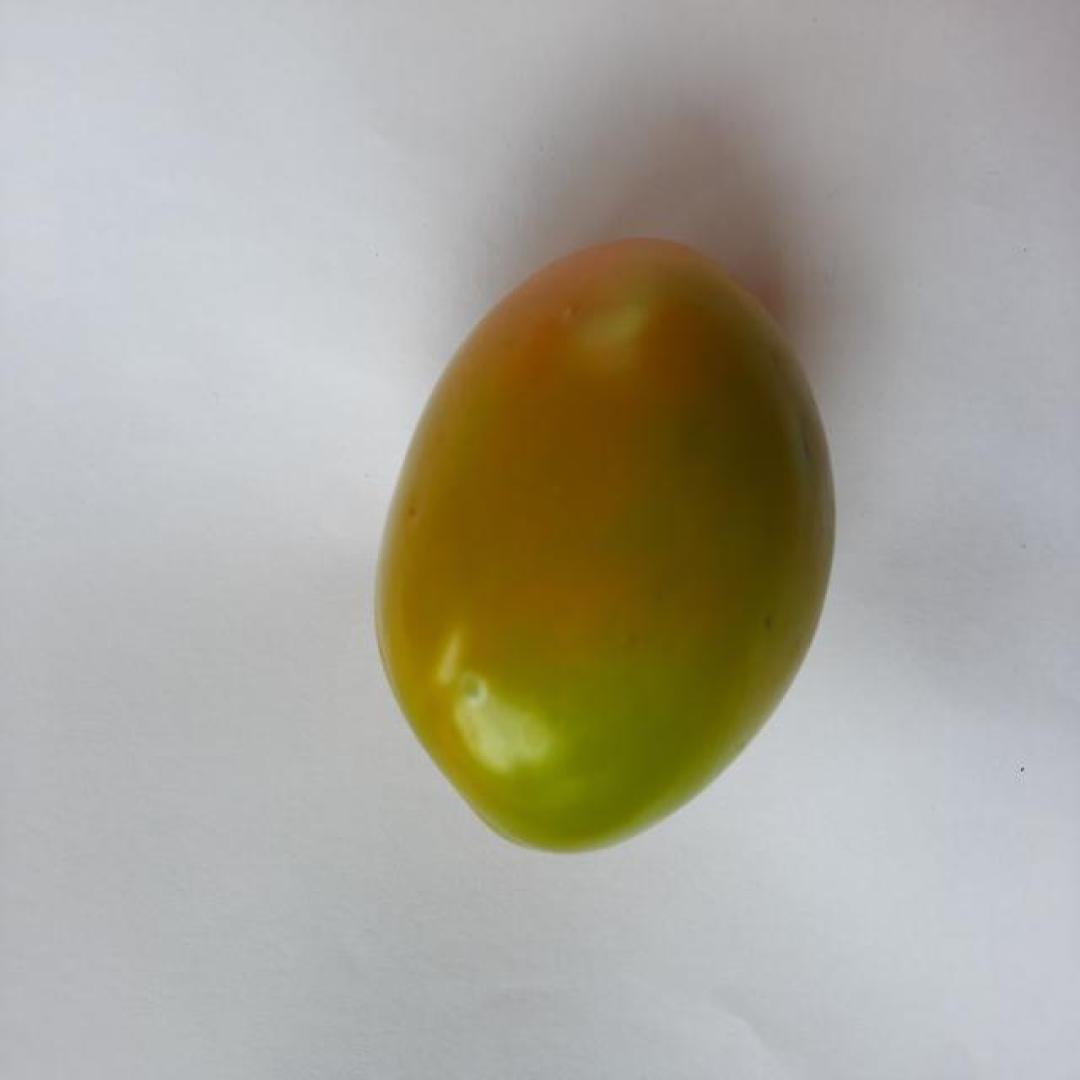setengah_matang: (363, 231, 840, 861)
